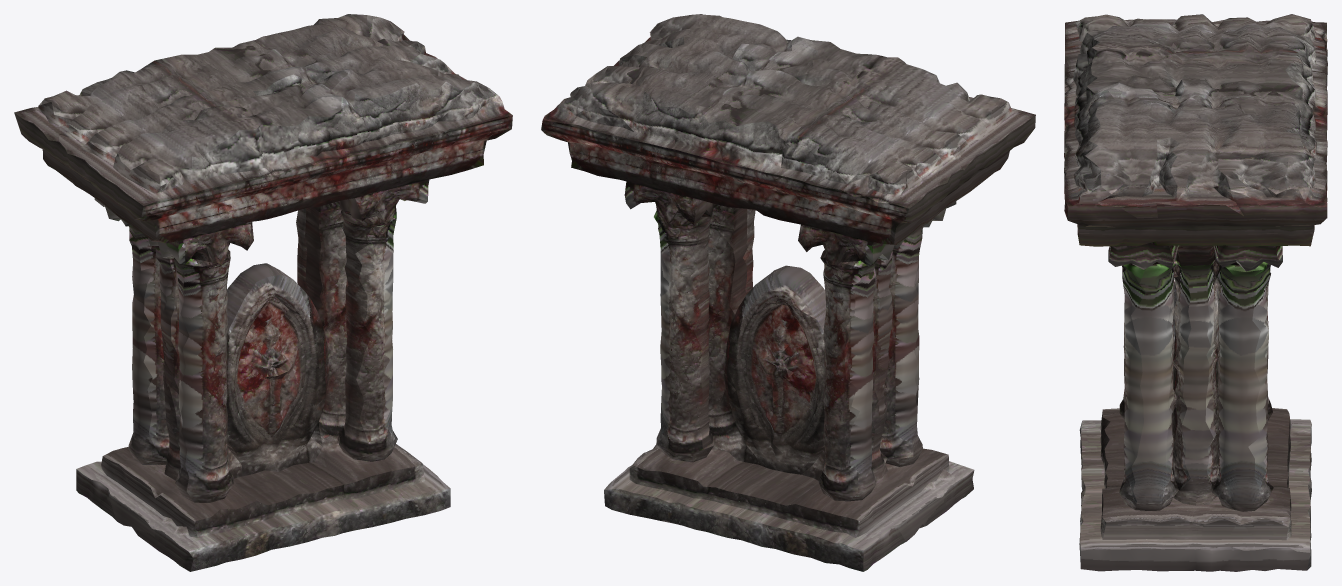
The model's file is altar_stone.glb.
3 renders of one model, left to right at view 1: azimuth 30°, elevation 25°; view 2: azimuth 150°, elevation 25°; view 3: azimuth 270°, elevation 25°, orthographic. The views are drawn at different scales.
Visible parts, largest first — view 1: geometry_0; view 2: geometry_0; view 3: geometry_0.
Boxes of the visible parts, x1,y1,x2,y2 form: geometry_0: (14,14,512,571); geometry_0: (541,14,1035,571); geometry_0: (1064,14,1327,571).
Size of the model in its own units: 0.9121 by 1 by 0.5475.
1 material, 1 textured.
